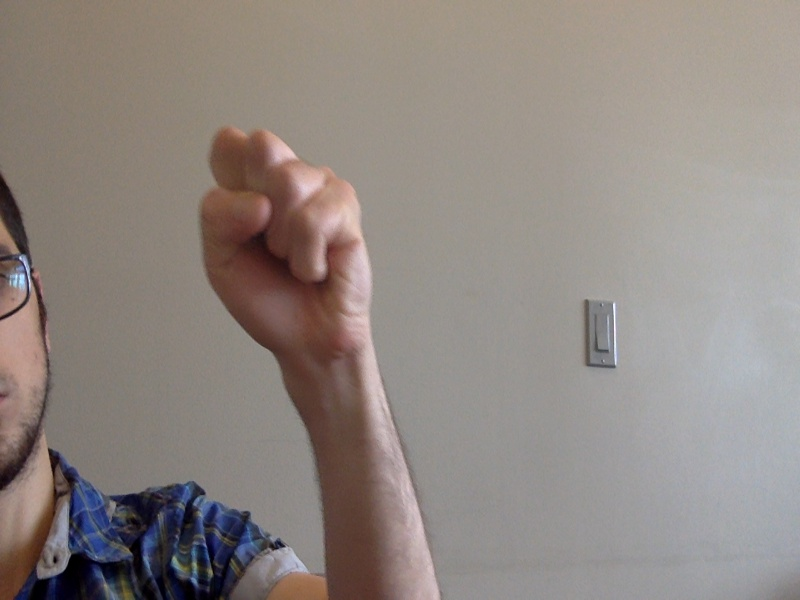0-hand: (198, 127, 374, 374)
